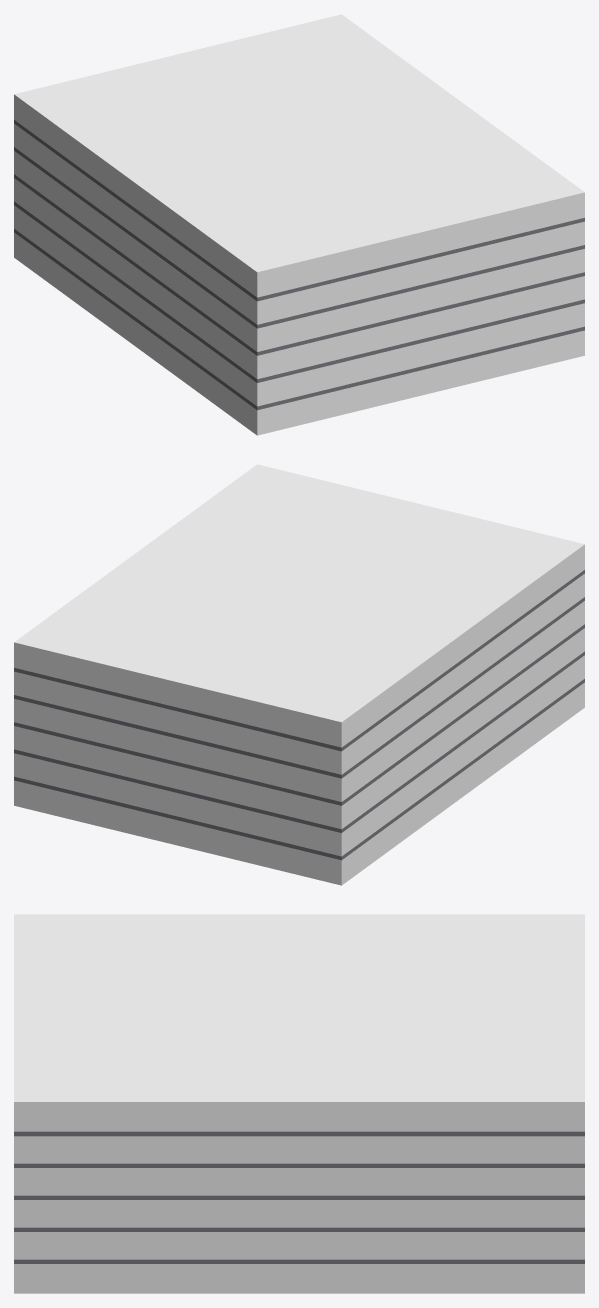
Rendered from Paper_1.fbx.
3 renders of one model, top to bottom at view 1: azimuth 30°, elevation 25°; view 2: azimuth 150°, elevation 25°; view 3: azimuth 270°, elevation 25°, orthographic. The views are drawn at different scales.
Parts seen in each view (by area): view 1: Paper_1; view 2: Paper_1; view 3: Paper_1.
Boxes of the visible parts, box(x1,y1,x2,y2) form: Paper_1: box(14, 14, 584, 435); Paper_1: box(14, 464, 584, 885); Paper_1: box(14, 914, 584, 1293).
Bounding box in the file's own units: 0.21 × 0.1 × 0.27.
